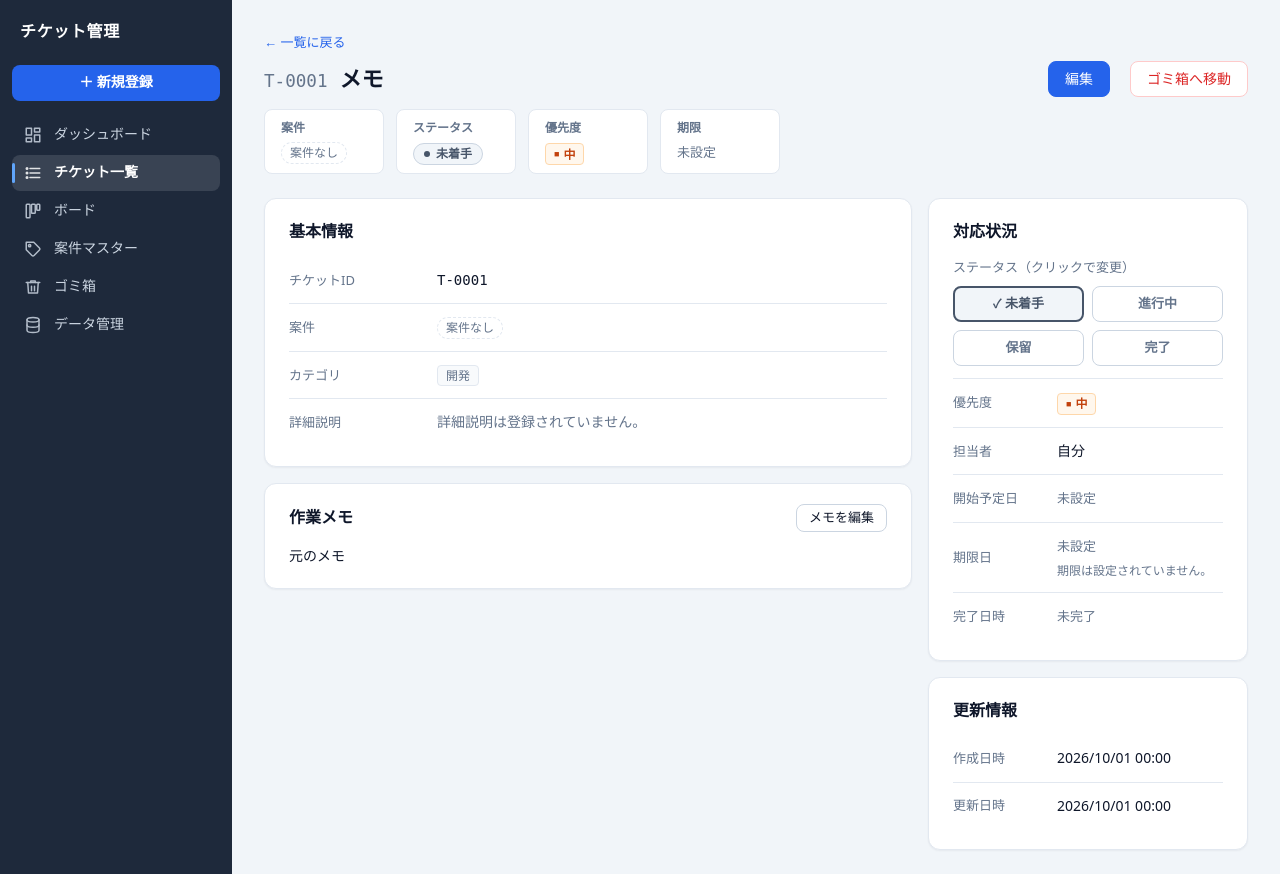
Test case: チケット詳細画面 › 作業メモの変更を保存せずにキャンセルすると、破棄してよいか確認する
Click the button "メモを編集": (842, 518) [796, 504, 887, 532]
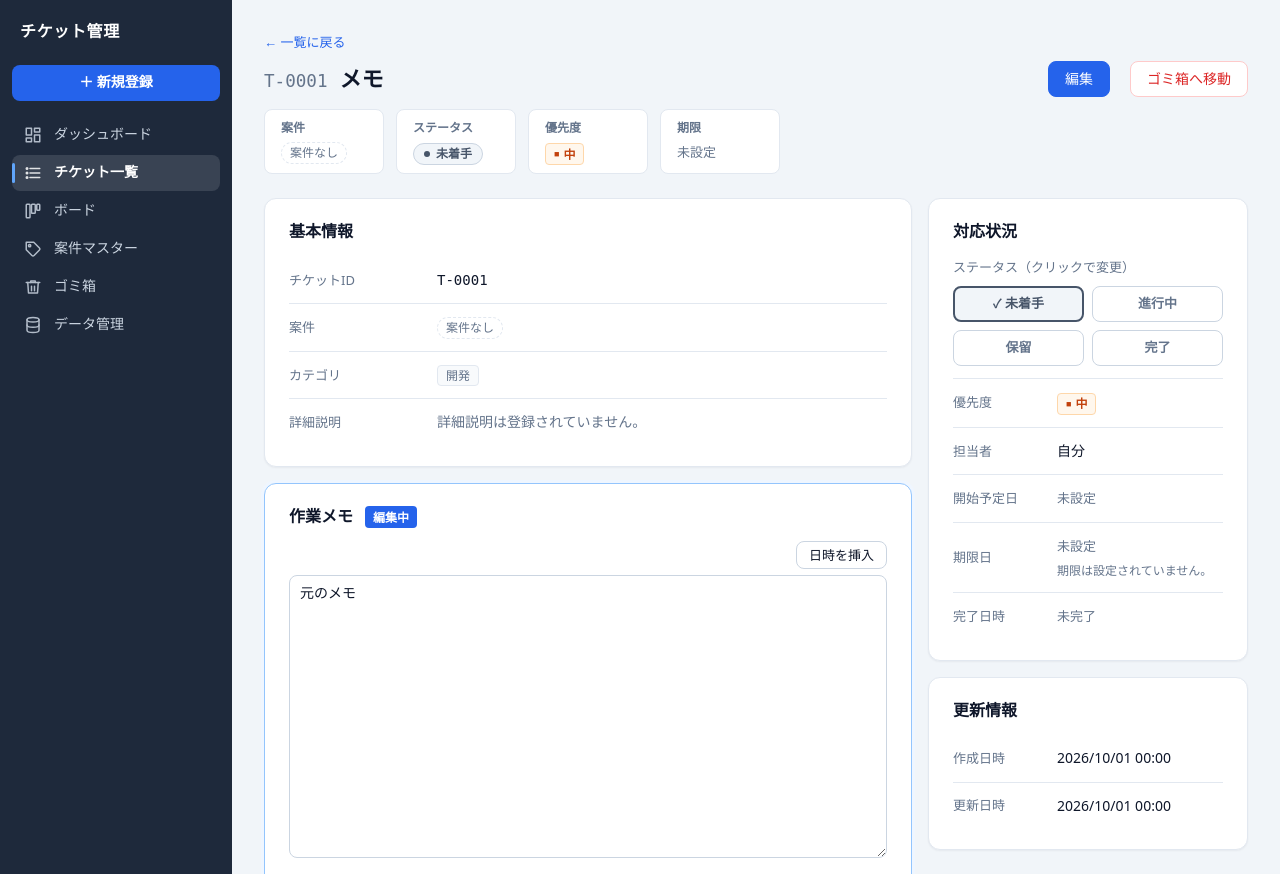
Result: the text "編集中" is shown at [365, 506, 417, 528]
In the text box with placeholder "調査結果・対応内容・次に実施する作業などを記録します": (588, 716) [289, 575, 887, 858], type "追記"
(page scrolled)
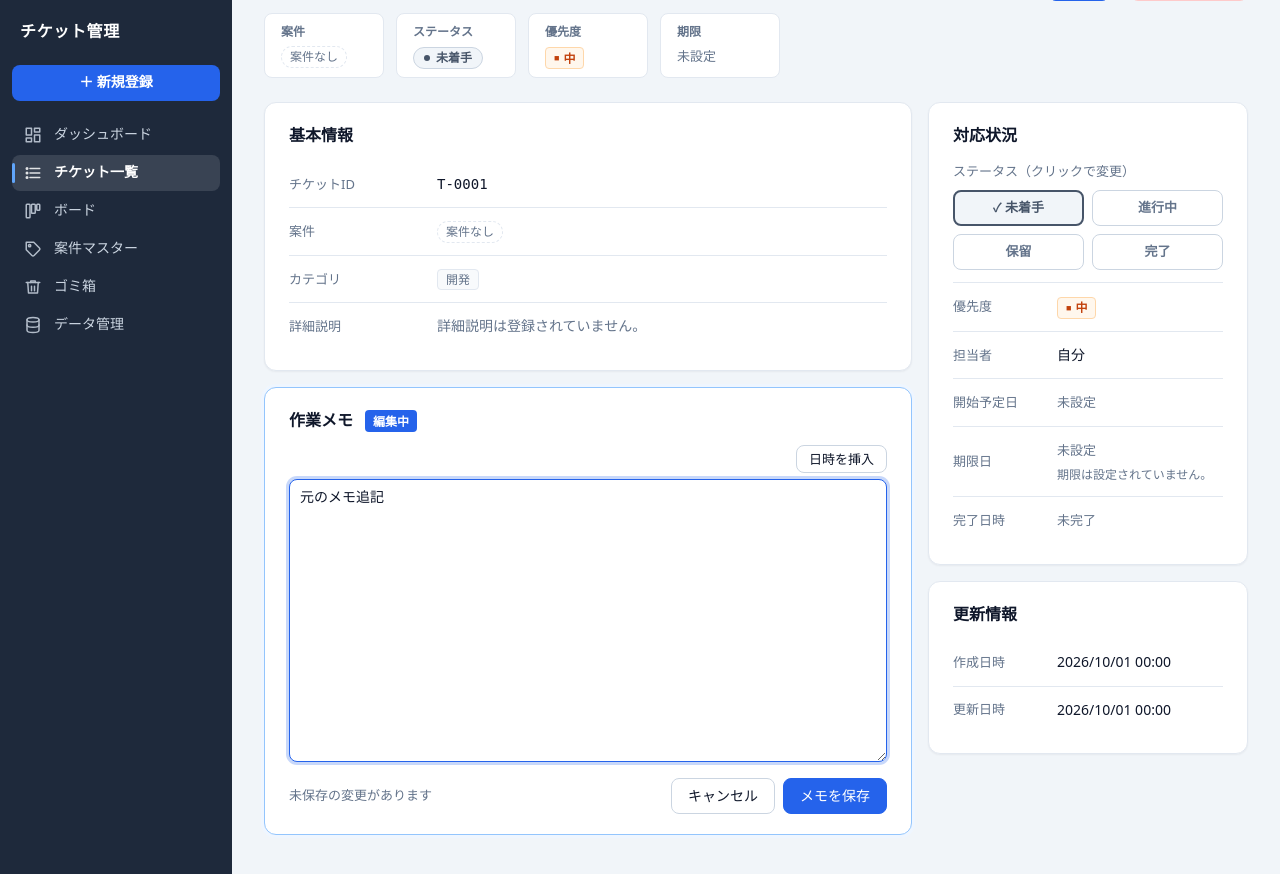
Click the button "キャンセル": (723, 796) [671, 778, 775, 814]
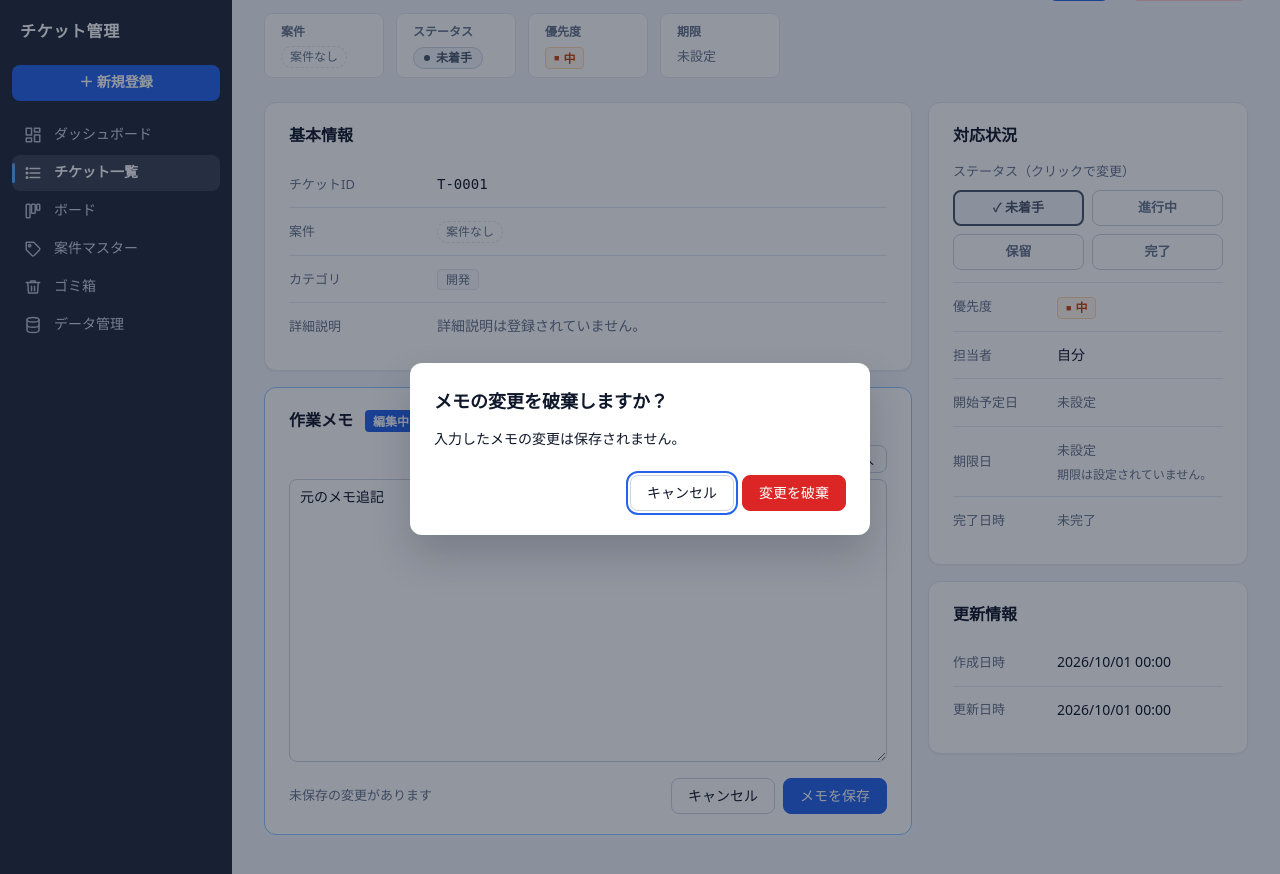
Click the button "キャンセル": (682, 493) [630, 475, 734, 511]
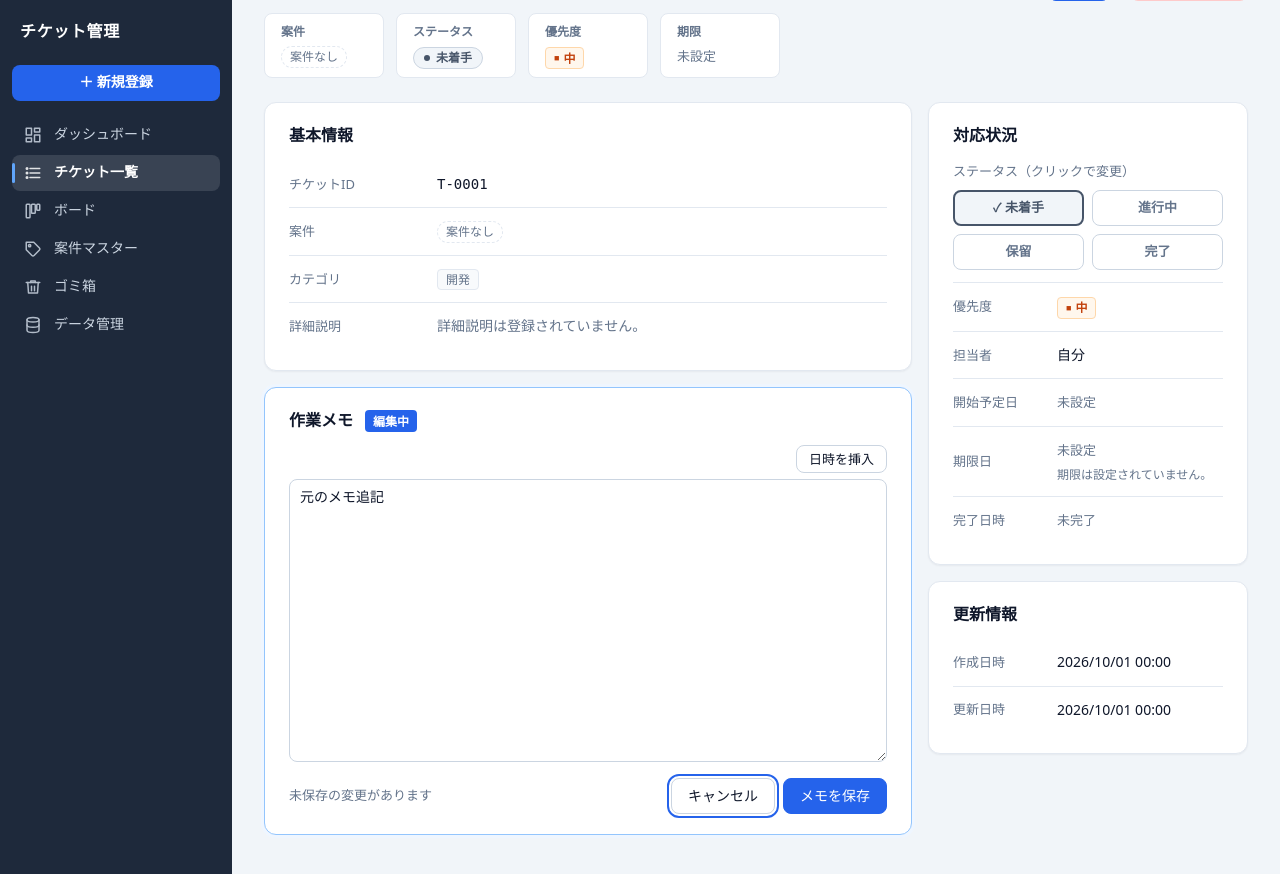
Result: the text box with placeholder "調査結果・対応内容・次に実施する作業などを記録します" holds "元のメモ追記" at [289, 479, 887, 762]
Click the button "キャンセル": (723, 796) [671, 778, 775, 814]
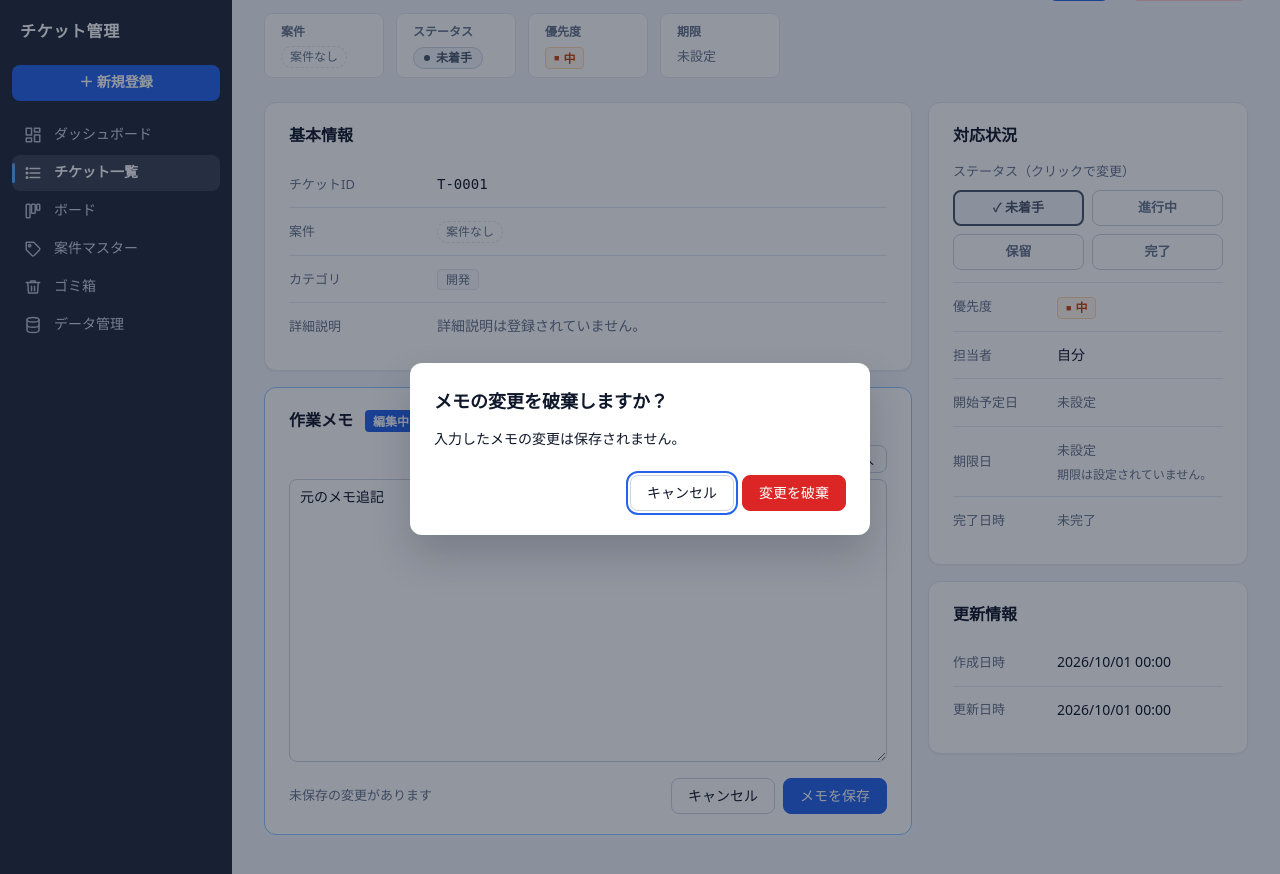
Click the button "変更を破棄": (794, 493) [742, 475, 846, 511]
(page scrolled)
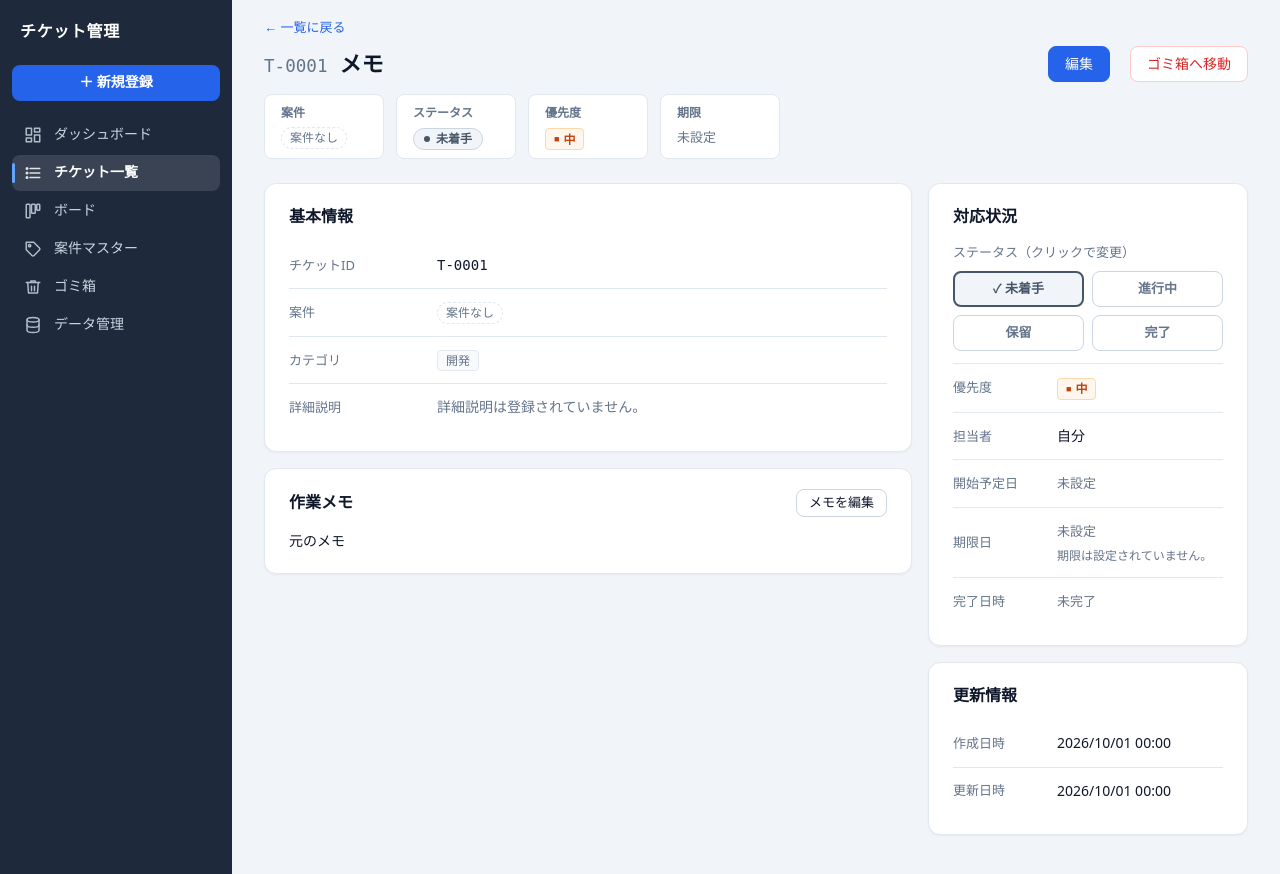
Result: the text "元のメモ" is shown at [289, 530, 345, 550]
